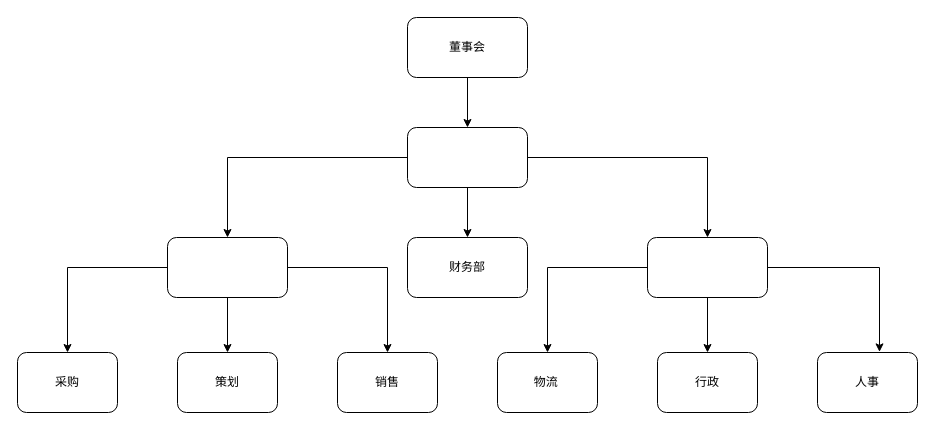
The diagram is 935 pixels wide and 430 high, and some of its shapes have lost their labels. Here are the shapes that lost their labels. From the top down, the centre of each, then its label:
the point at 467,157: 总经理
the point at 227,267: 业务部
the point at 707,267: 综合管理部
